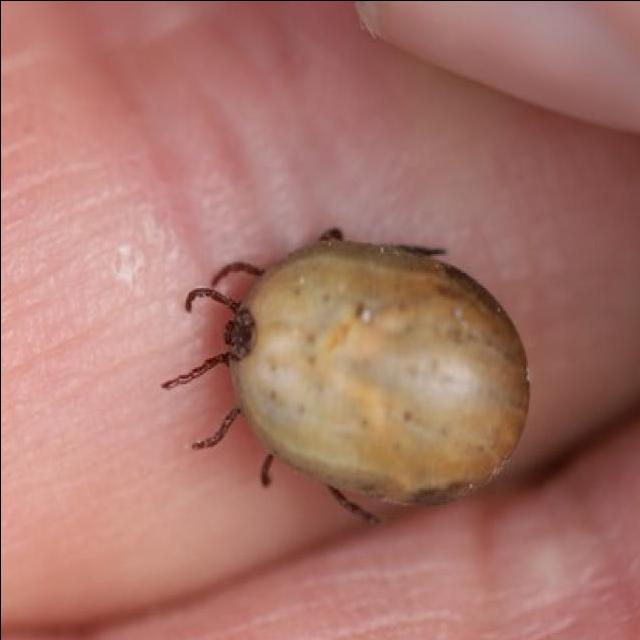Dermacentor Reticulatus-F-Fed: (162, 227, 530, 525)
